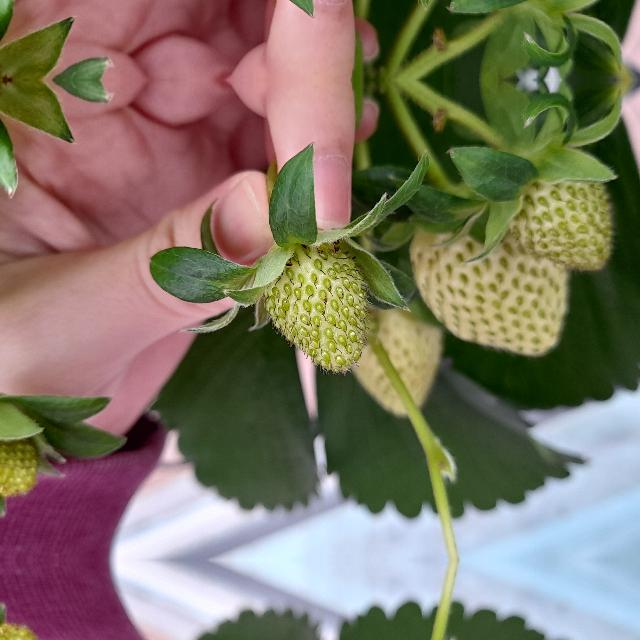Health_25: (396, 193, 568, 354), (488, 140, 624, 272), (262, 244, 374, 376)
